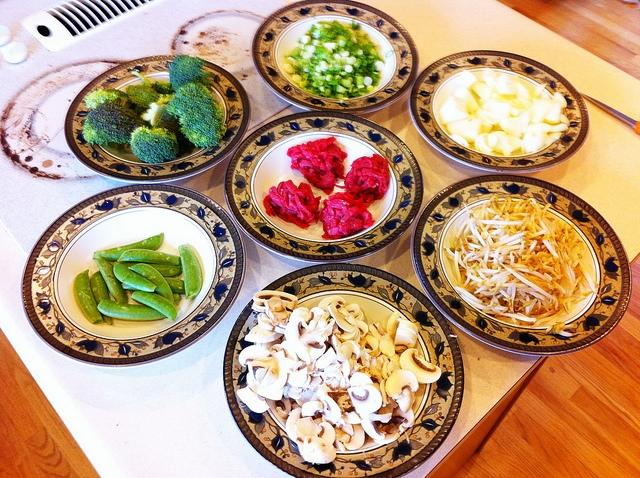broccoli: (166, 82, 228, 150), (83, 103, 151, 145), (130, 125, 179, 164), (170, 54, 212, 92), (86, 88, 130, 110), (125, 85, 160, 109), (152, 110, 180, 135)
green onion: (329, 62, 344, 72), (321, 60, 329, 72), (340, 51, 350, 58), (308, 46, 316, 54)
mushroom: (399, 348, 442, 384), (253, 290, 298, 317), (286, 408, 318, 445), (296, 436, 338, 464), (247, 372, 286, 401), (385, 369, 419, 400), (348, 385, 382, 414), (237, 386, 270, 413), (328, 302, 357, 332), (360, 413, 392, 440), (334, 423, 364, 450), (244, 324, 284, 344), (238, 344, 272, 367), (251, 306, 288, 326), (284, 318, 307, 350), (318, 394, 342, 424), (392, 404, 415, 432), (394, 328, 416, 356), (258, 312, 286, 334), (370, 354, 389, 384), (396, 388, 416, 414), (314, 422, 336, 445), (396, 318, 418, 340), (315, 347, 337, 369), (358, 334, 380, 356), (278, 357, 302, 374), (342, 340, 362, 360), (272, 398, 292, 418), (349, 372, 374, 388), (380, 334, 396, 357), (279, 341, 297, 361), (302, 401, 323, 418), (369, 322, 386, 341), (354, 318, 368, 340), (323, 360, 342, 376), (342, 411, 363, 424), (321, 378, 339, 392), (304, 376, 322, 390), (337, 395, 352, 411), (386, 360, 401, 376), (344, 304, 362, 317), (309, 307, 325, 320), (286, 388, 302, 400), (324, 326, 334, 342), (288, 382, 304, 392), (358, 351, 367, 366), (382, 361, 389, 380), (336, 390, 350, 399), (330, 358, 338, 364)
